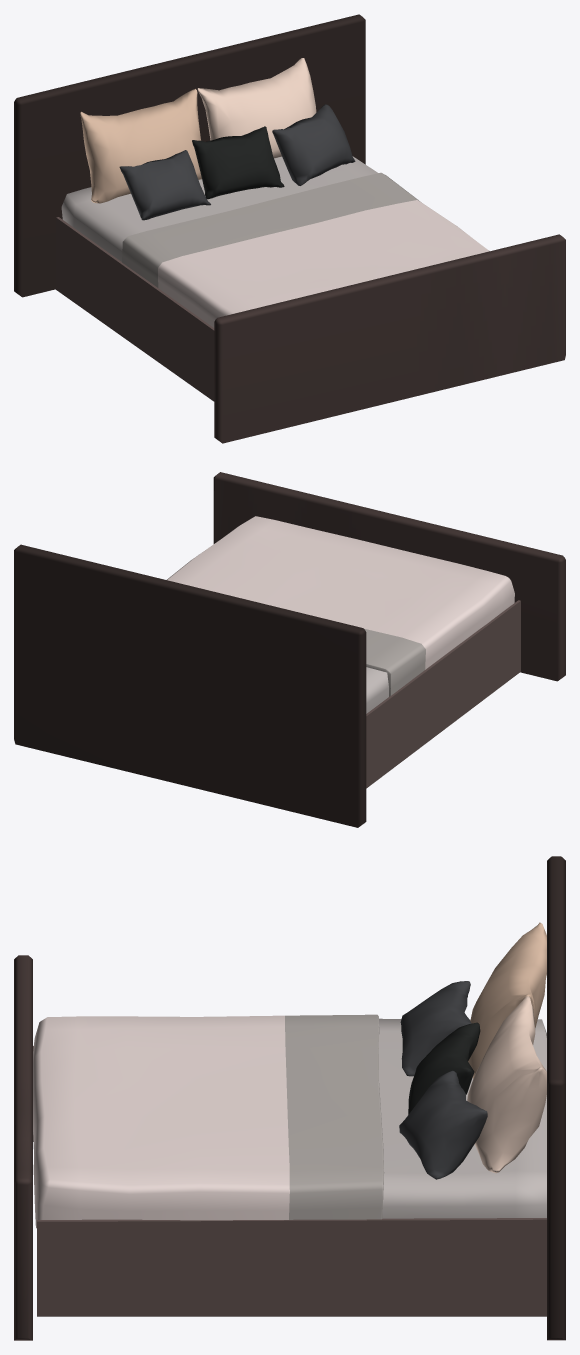
File: SM_BedBigBrown_01.fbx
3 views of the same model, one above another, from view 1: azimuth 30°, elevation 25°; view 2: azimuth 150°, elevation 25°; view 3: azimuth 270°, elevation 25° (orthographic). The views are drawn at different scales.
Parts seen in each view (by area): view 1: SM_BedBigBrown_01; view 2: SM_BedBigBrown_01; view 3: SM_BedBigBrown_01.
Boxes of the visible parts, <box> form: SM_BedBigBrown_01: <box>14,14,565,443</box>; SM_BedBigBrown_01: <box>14,472,565,827</box>; SM_BedBigBrown_01: <box>14,856,565,1340</box>.
Bounding box in the file's own units: 213 × 115 × 219.
